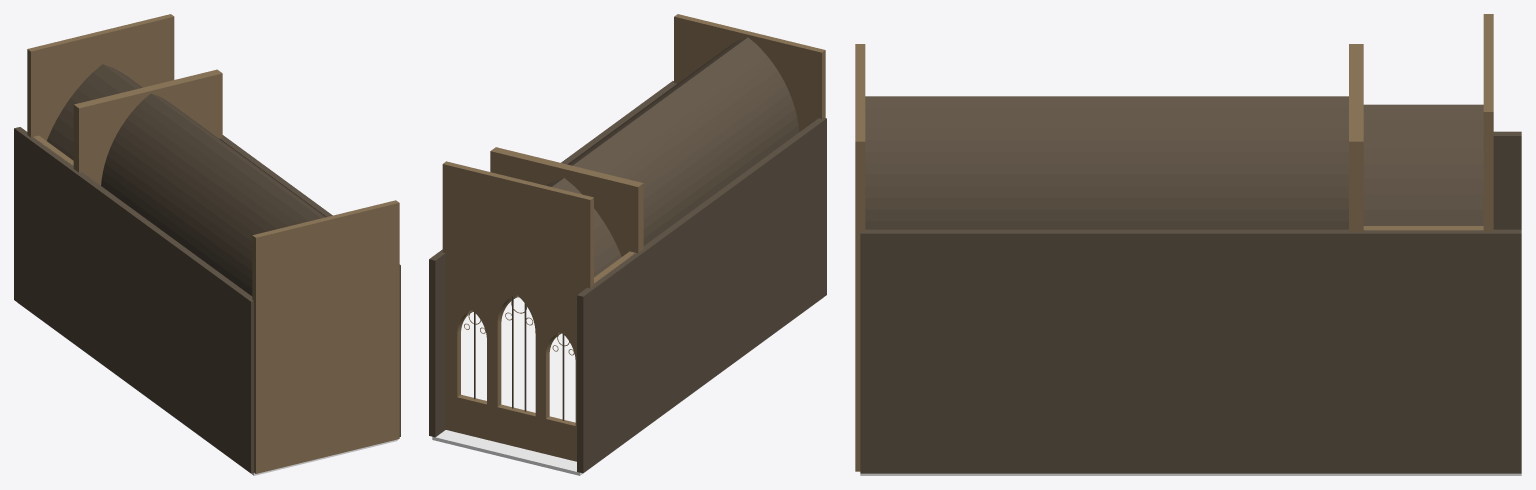
File: cathedral.glb
3 views of the same model, side by side, from view 1: azimuth 30°, elevation 25°; view 2: azimuth 150°, elevation 25°; view 3: azimuth 270°, elevation 25° (orthographic). The views are drawn at different scales.
Parts seen in each view (by area): view 1: WallL, RearWall, Vault, EndTop, ChancelWall, ChancelVault, WallR, EndWall, Floor; view 2: WallL, Vault, EndWall, EndTop, RearWall, ChancelWall, WallR, Glass, Floor, Glass.001, Glass.002, ChancelVault (+1 smaller); view 3: WallR, Vault, ChancelVault, RearWall, WallL, ChancelWall, EndTop, Floor.
Boxes of the visible parts, <box> form: WallL: <box>14,127,253,473</box>; RearWall: <box>252,200,399,473</box>; Vault: <box>101,93,325,296</box>; EndTop: <box>27,14,174,115</box>; ChancelWall: <box>73,69,222,185</box>; ChancelVault: <box>47,64,142,160</box>; WallR: <box>220,135,400,436</box>; EndWall: <box>27,108,62,140</box>; Floor: <box>18,303,397,475</box>; WallL: <box>577,117,826,473</box>; Vault: <box>568,37,799,245</box>; EndWall: <box>442,230,593,461</box>; EndTop: <box>442,161,593,266</box>; RearWall: <box>674,14,825,131</box>; ChancelWall: <box>490,147,643,311</box>; WallR: <box>429,81,676,437</box>; Glass: <box>501,297,535,412</box>; Floor: <box>432,298,822,475</box>; Glass.001: <box>549,333,575,422</box>; Glass.002: <box>461,312,486,400</box>; ChancelVault: <box>546,178,621,277</box>; WallR: <box>860,229,1521,473</box>; Vault: <box>865,96,1348,229</box>; ChancelVault: <box>1363,104,1483,225</box>; RearWall: <box>855,44,865,471</box>; WallL: <box>1493,131,1521,229</box>; ChancelWall: <box>1349,44,1363,231</box>; EndTop: <box>1483,14,1493,201</box>; Floor: <box>860,473,1521,475</box>.
Bounding box in the file's own units: 14.6 × 24.3 × 40.3.
